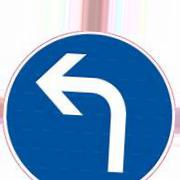left: (22, 46, 131, 179)
